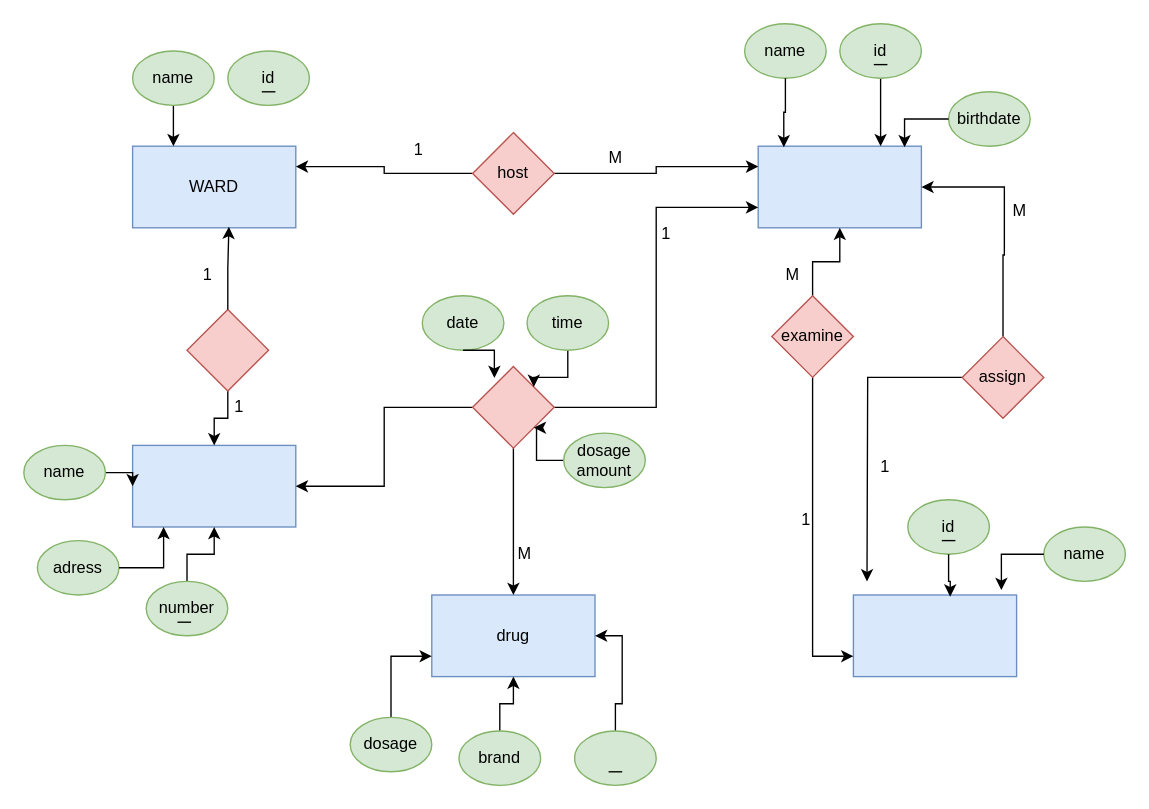
This 1149x809 diagram has some shape labels left out. Here are the shapes that lost their labels. From the top down, the centre of each, then its label:
At pixel 839 186: "patient".
At pixel 227 349: "mange".
At pixel 512 406: "taken".
At pixel 213 485: "Nurse".
At pixel 934 635: "consultant".
At pixel 614 757: "code".
